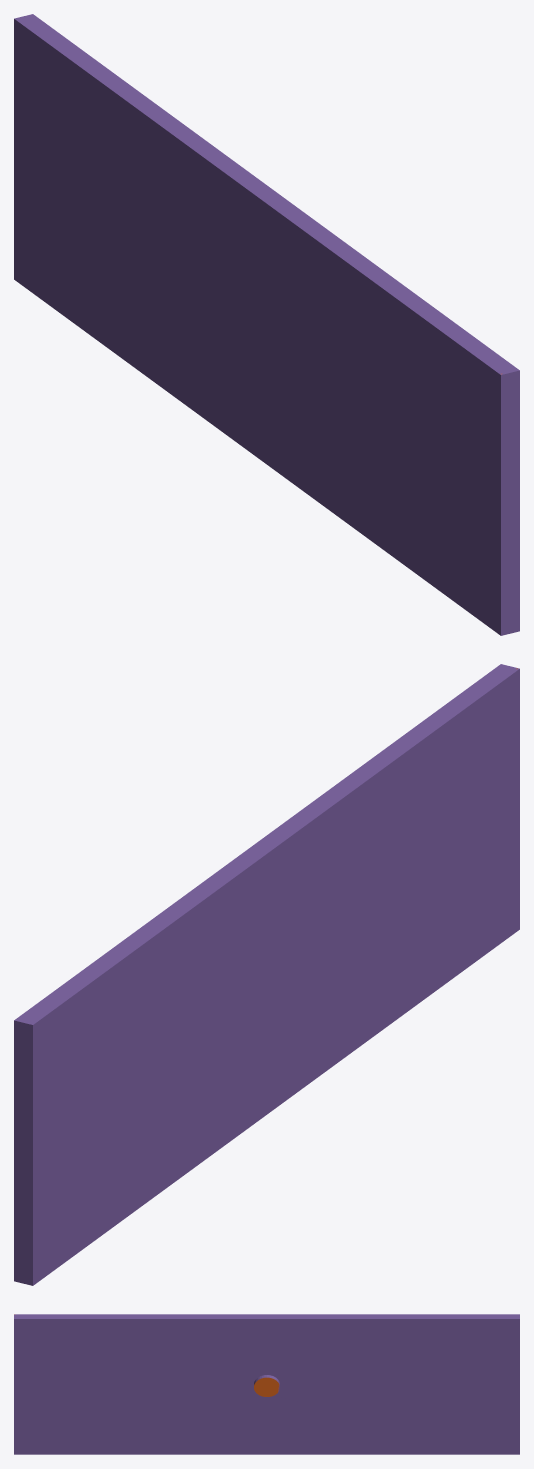
The model's file is CajonChico4.obj.
3 renders of one model, top to bottom at view 1: azimuth 30°, elevation 25°; view 2: azimuth 150°, elevation 25°; view 3: azimuth 270°, elevation 25°, orthographic. The views are drawn at different scales.
Visible parts, largest first — view 1: Cube.013_Cube.058; view 2: Cube.013_Cube.058; view 3: Cube.013_Cube.058.
Boxes of the visible parts, left/top/right/bottom form: Cube.013_Cube.058: left=14, top=14, right=519, bottom=635; Cube.013_Cube.058: left=14, top=664, right=519, bottom=1285; Cube.013_Cube.058: left=14, top=1314, right=519, bottom=1454.
Bounding box in the file's own units: 0.4788 × 4.05 × 13.71.
Materials: 1 (1 with a texture image).
